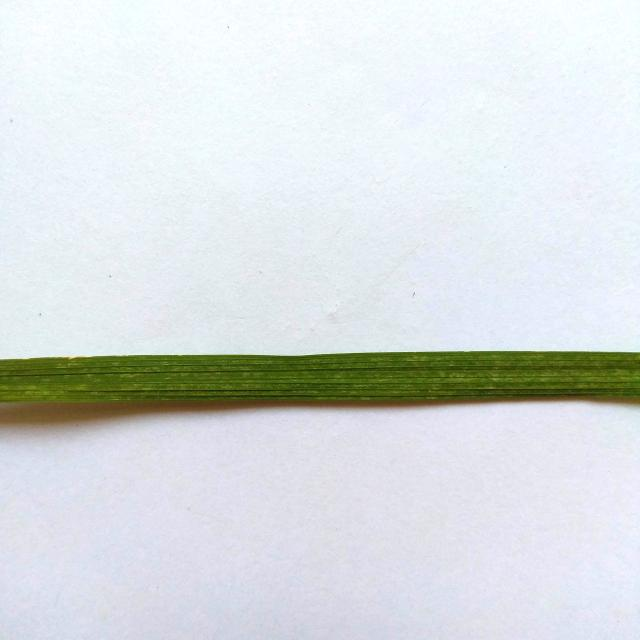Rice_Healthy: (0, 352, 640, 402)
